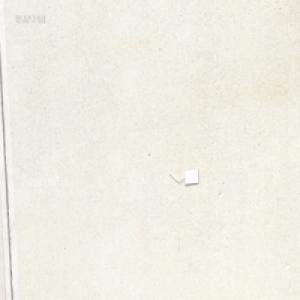LuggageTag: (168, 167, 199, 184)
